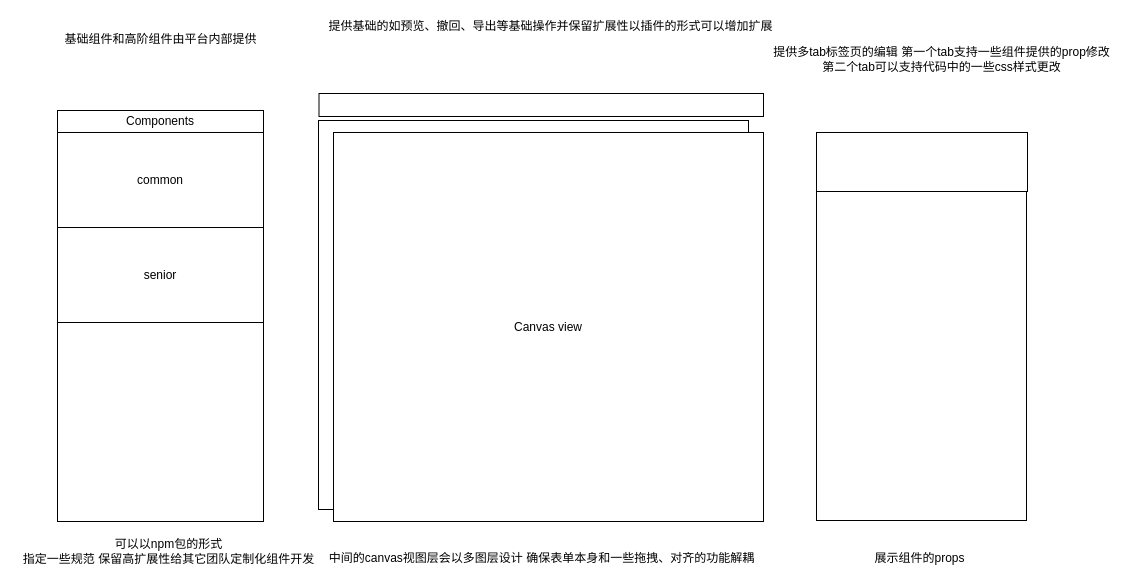
The diagram is 1131 pixels wide and 584 high, and some of its shapes have lost their labels. Each missing label, with the centre of its shape:
Tab: pixel 922 162
Tool Bar: pixel 541 104
